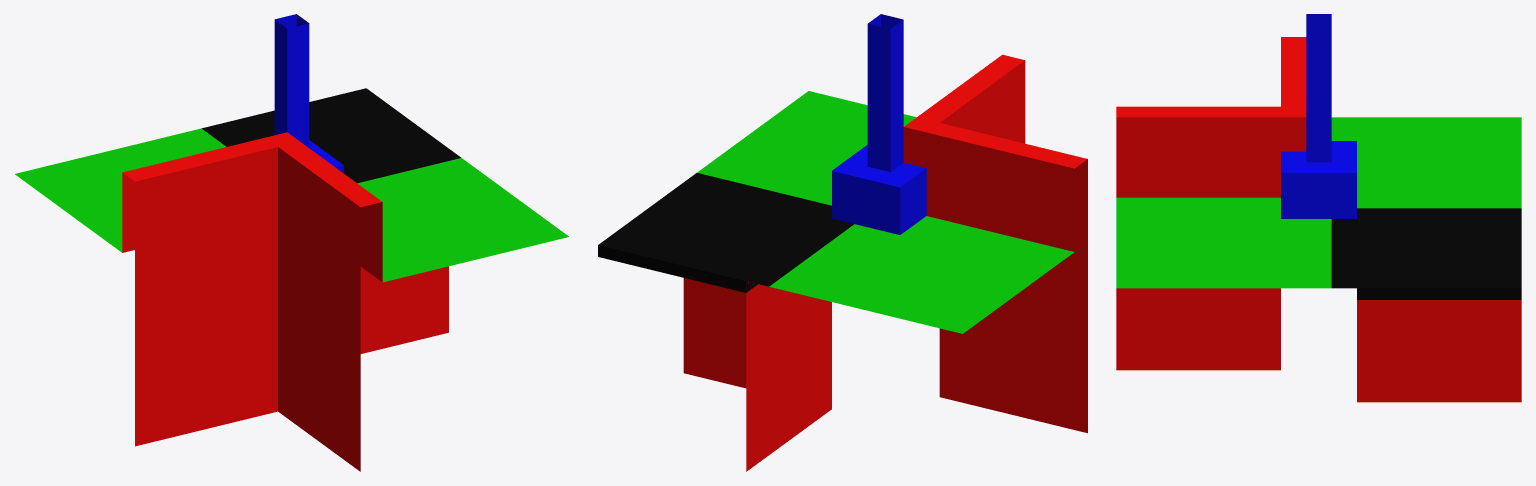
The model's file is None_P_W_E_E_W_E_E_E_BigStrut.fbx.
The picture shows the model from 3 angles, left to right: view 1: azimuth 30°, elevation 25°; view 2: azimuth 150°, elevation 25°; view 3: azimuth 270°, elevation 25°; orthographic projection. The views are drawn at different scales.
Visible parts, largest first — view 1: None_P_W_E_E_W_E_E_E_BigStrut; view 2: None_P_W_E_E_W_E_E_E_BigStrut; view 3: None_P_W_E_E_W_E_E_E_BigStrut.
Boxes of the visible parts, x1,y1,x2,y2 form: None_P_W_E_E_W_E_E_E_BigStrut: (15, 14, 568, 471); None_P_W_E_E_W_E_E_E_BigStrut: (598, 14, 1087, 471); None_P_W_E_E_W_E_E_E_BigStrut: (1116, 14, 1521, 402).
Bounding box in the file's own units: 100 × 100 × 100.
